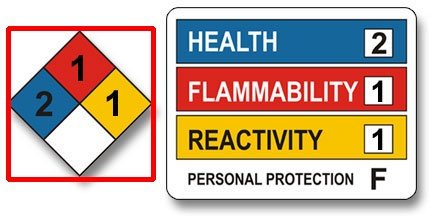nfpa: (8, 28, 153, 179)
